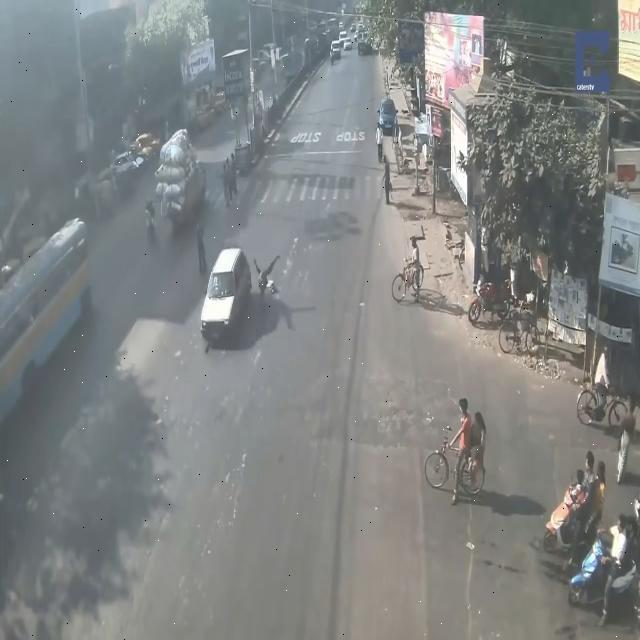accident: (190, 232, 287, 348)
